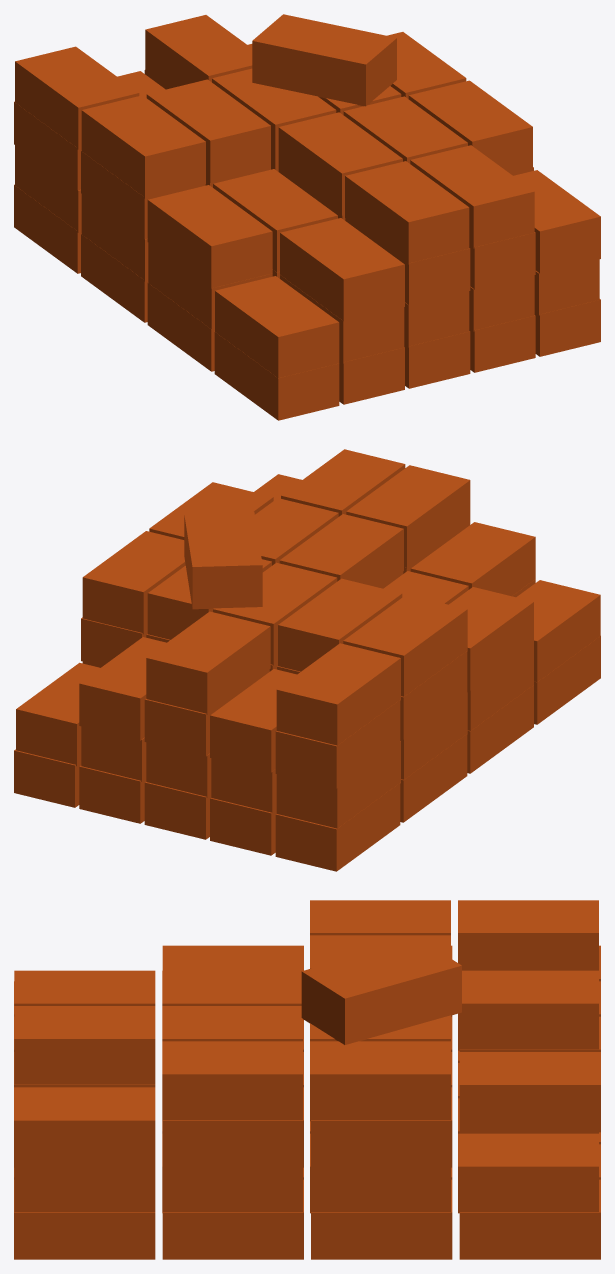
3 renders of one model, top to bottom at view 1: azimuth 30°, elevation 25°; view 2: azimuth 150°, elevation 25°; view 3: azimuth 270°, elevation 25°, orthographic. The views are drawn at different scales.
Visible parts, largest first — view 1: A-8; view 2: A-8; view 3: A-8.
Part boxes in pixels (x1,y1,x2,y2): A-8: [14, 14, 600, 420]; A-8: [14, 449, 600, 871]; A-8: [14, 900, 600, 1259].
Bounding box in the file's own units: 306 × 189 × 434.
